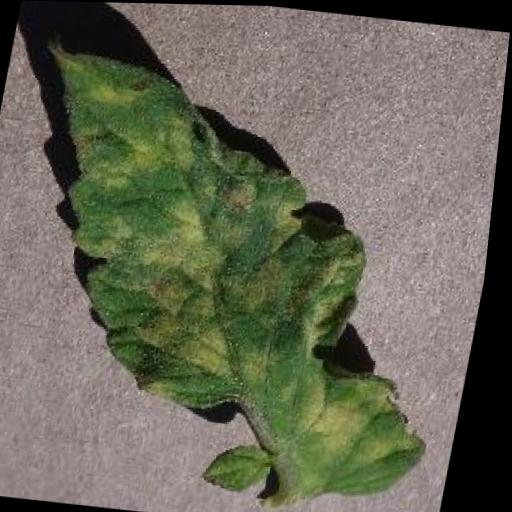Leaf Mold: (0, 36, 496, 512)
